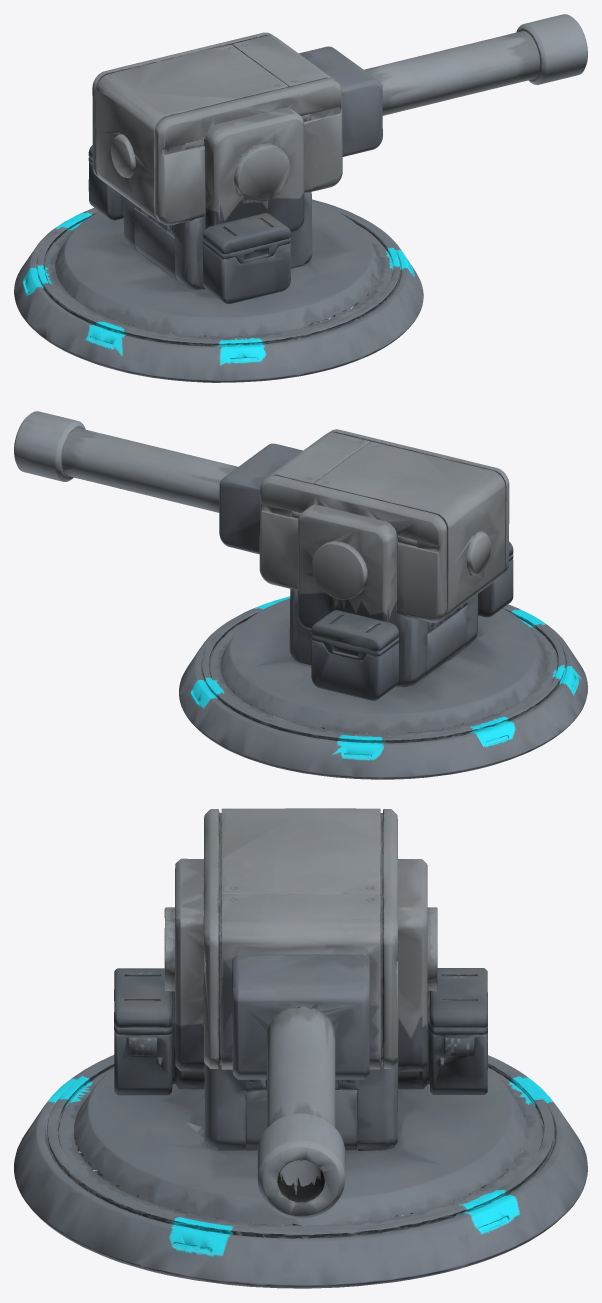
Rendered from town-cannon-full.glb.
3 views of the same model, one above another, from view 1: azimuth 30°, elevation 25°; view 2: azimuth 150°, elevation 25°; view 3: azimuth 270°, elevation 25° (orthographic). The views are drawn at different scales.
Parts seen in each view (by area): view 1: town-cannon-full; view 2: town-cannon-full; view 3: town-cannon-full.
Boxes of the visible parts, x1=… form: town-cannon-full: x1=14, y1=14, x2=587, y2=382; town-cannon-full: x1=14, y1=411, x2=587, y2=779; town-cannon-full: x1=14, y1=808, x2=587, y2=1288.
Bounding box in the file's own units: 4.48 × 1.79 × 3.03.
Materials: 1 (1 with a texture image).
